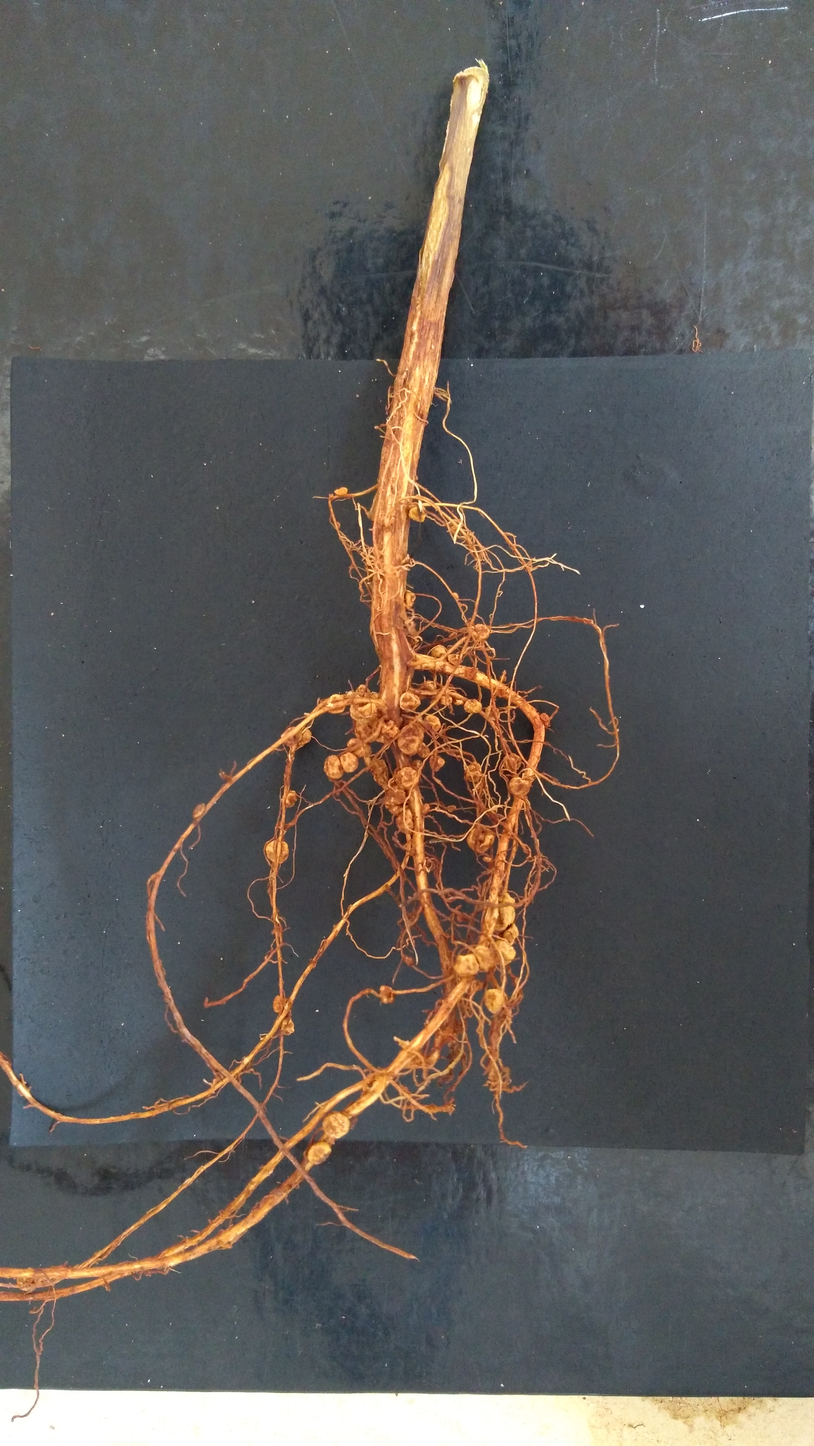nodule: (395, 720, 425, 757), (318, 1109, 352, 1140), (303, 1139, 334, 1168), (467, 826, 496, 855), (382, 788, 409, 817), (367, 756, 391, 788), (451, 953, 480, 979), (355, 715, 381, 743), (470, 944, 495, 973), (498, 890, 517, 927), (263, 839, 290, 865), (493, 938, 517, 967), (483, 988, 507, 1016), (393, 766, 420, 790), (321, 753, 344, 781), (349, 703, 379, 724), (14, 1266, 37, 1292), (395, 808, 415, 837), (506, 776, 532, 797), (325, 693, 348, 716), (399, 691, 421, 714), (338, 751, 359, 775), (279, 726, 303, 747), (418, 679, 440, 700), (295, 725, 313, 750), (423, 712, 443, 734), (464, 760, 483, 783), (354, 683, 379, 700), (502, 752, 522, 772), (502, 923, 519, 946), (463, 697, 483, 716), (346, 738, 365, 758), (407, 505, 427, 524), (378, 984, 396, 1005), (279, 1015, 296, 1037), (382, 719, 400, 738), (474, 623, 491, 643), (429, 754, 446, 773), (284, 789, 300, 809), (485, 704, 501, 722), (191, 802, 207, 819), (430, 644, 447, 659), (416, 741, 430, 759), (404, 591, 417, 608), (447, 653, 464, 666), (272, 994, 283, 1014), (361, 743, 372, 758), (439, 696, 453, 707), (333, 486, 348, 496), (411, 758, 422, 770), (540, 711, 550, 722), (454, 696, 464, 706), (421, 802, 429, 814), (446, 804, 456, 813), (452, 591, 459, 600)
